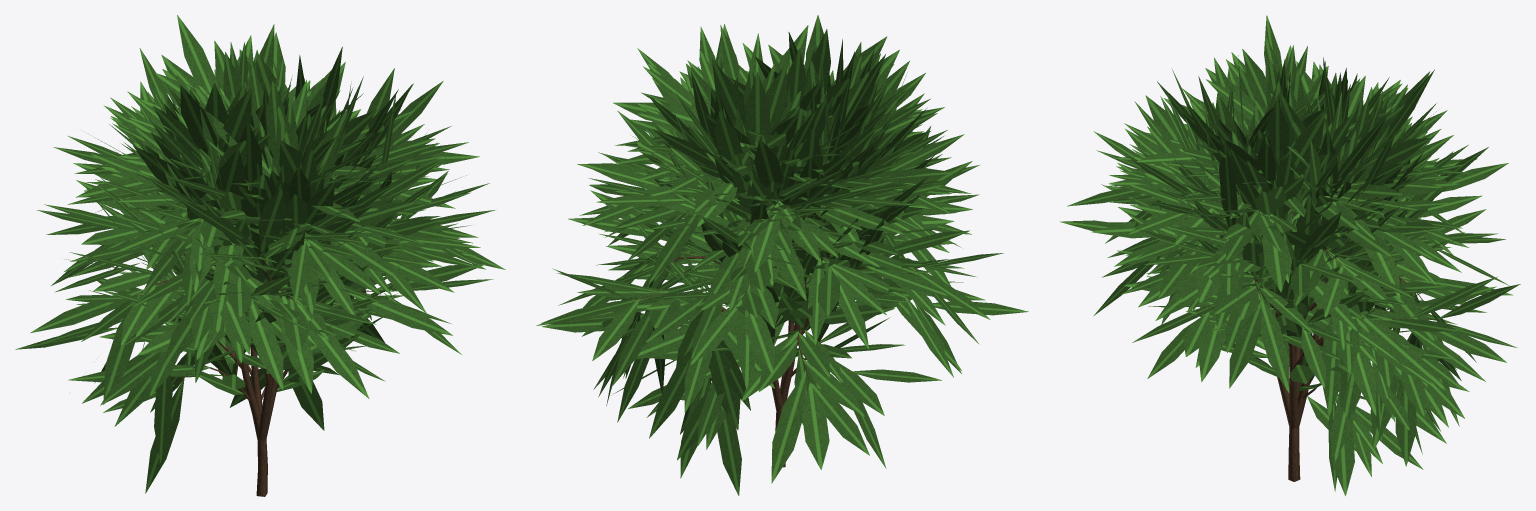
File: callistemon.glb
The picture shows the model from 3 angles, left to right: view 1: azimuth 30°, elevation 25°; view 2: azimuth 150°, elevation 25°; view 3: azimuth 270°, elevation 25°; orthographic projection. The views are drawn at different scales.
Parts seen in each view (by area): view 1: leaves, tree; view 2: leaves, tree; view 3: leaves, tree.
Boxes of the visible parts, x1,y1,x2,y2 form: leaves: [15, 15, 505, 493]; tree: [132, 218, 386, 496]; leaves: [536, 15, 1028, 495]; tree: [632, 201, 918, 467]; leaves: [1059, 15, 1520, 495]; tree: [1202, 179, 1435, 481].
Bounding box in the file's own units: 1.03 × 1 × 0.9967.
2 materials, 2 textured.
